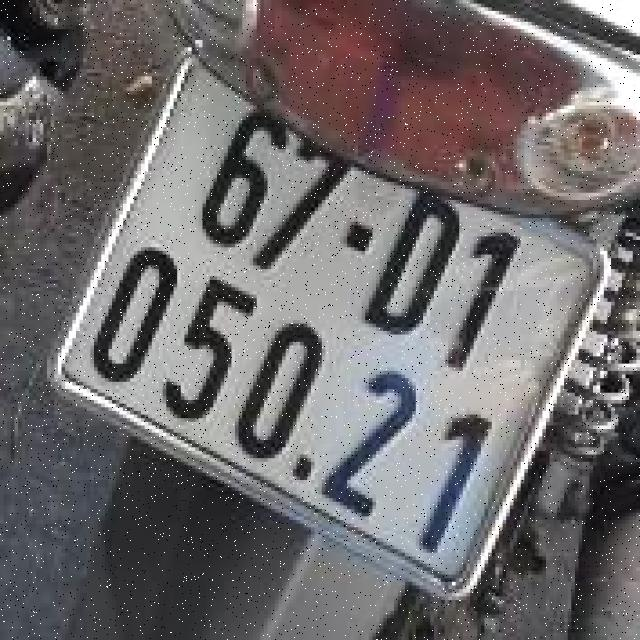0: (222, 307, 339, 477), (78, 233, 193, 404)
1: (391, 398, 503, 567), (421, 216, 531, 385)
2: (312, 352, 433, 529)
5: (148, 267, 266, 439)
6: (187, 98, 304, 264)
7: (241, 116, 370, 301)
D: (356, 180, 480, 352)
